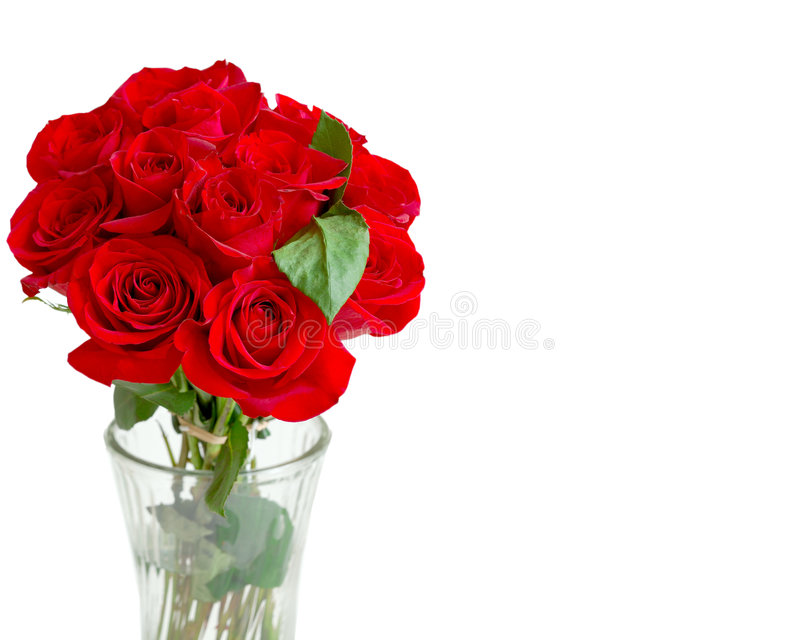RedRose: (192, 260, 357, 434), (73, 231, 207, 390), (8, 174, 128, 302), (179, 153, 298, 279), (106, 121, 201, 220)
